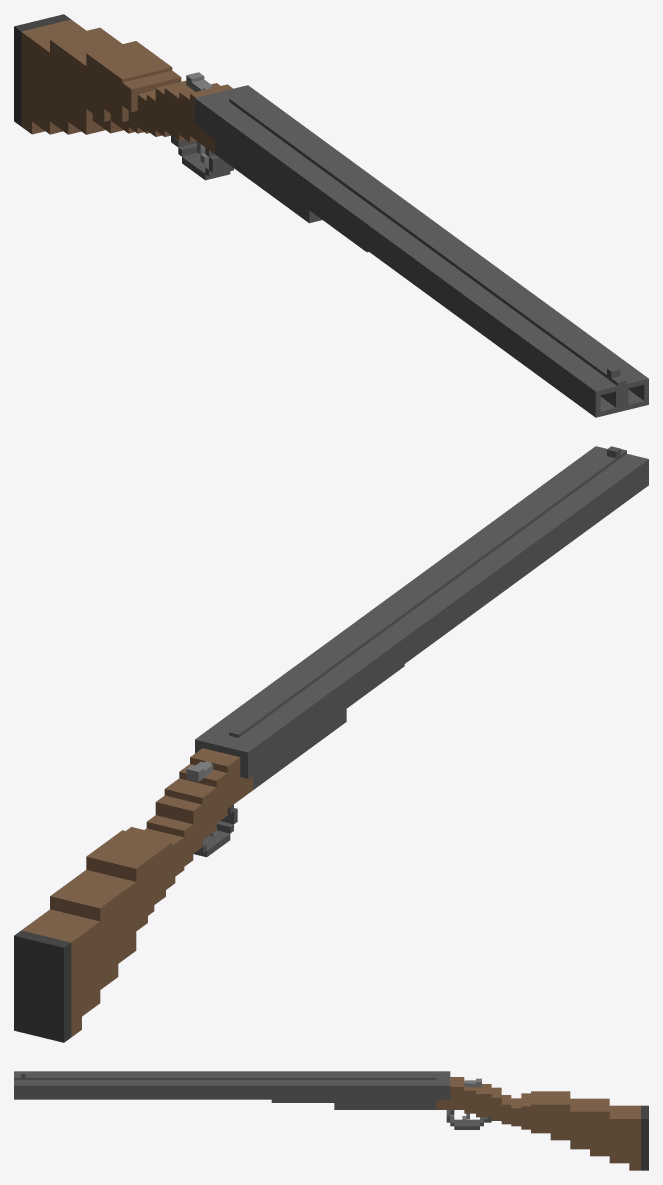
File: shotgun_breakAction.fbx
The picture shows the model from 3 angles, top to bottom: view 1: azimuth 30°, elevation 25°; view 2: azimuth 150°, elevation 25°; view 3: azimuth 270°, elevation 25°; orthographic projection. The views are drawn at different scales.
Visible parts, largest first — view 1: shotgun_breakAction_barrels, shotgun_breakAction_base; view 2: shotgun_breakAction_barrels, shotgun_breakAction_base; view 3: shotgun_breakAction_barrels, shotgun_breakAction_base.
Part boxes in pixels (x1,y1,x2,y2): shotgun_breakAction_barrels: (207, 94, 648, 417); shotgun_breakAction_base: (14, 14, 260, 180); shotgun_breakAction_barrels: (208, 446, 648, 768); shotgun_breakAction_base: (14, 730, 288, 1042); shotgun_breakAction_barrels: (14, 1071, 436, 1109); shotgun_breakAction_base: (397, 1071, 648, 1170).
Bounding box in the file's own units: 10.2 × 30.6 × 194.
